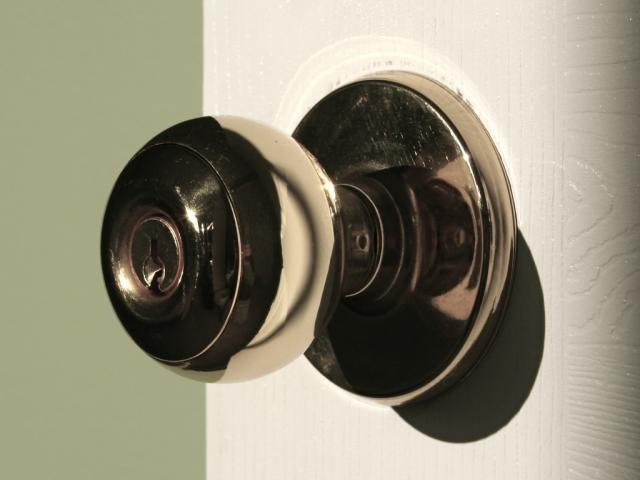Door-handle: (95, 66, 520, 413)
